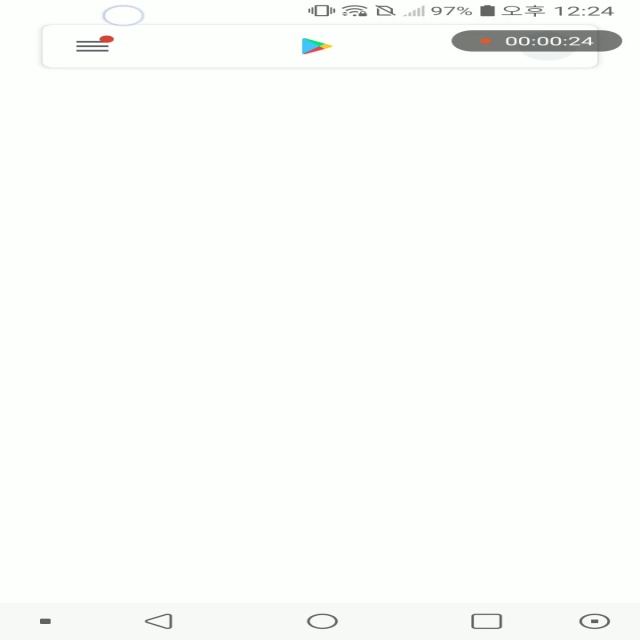Cursor: (103, 5, 147, 27)
